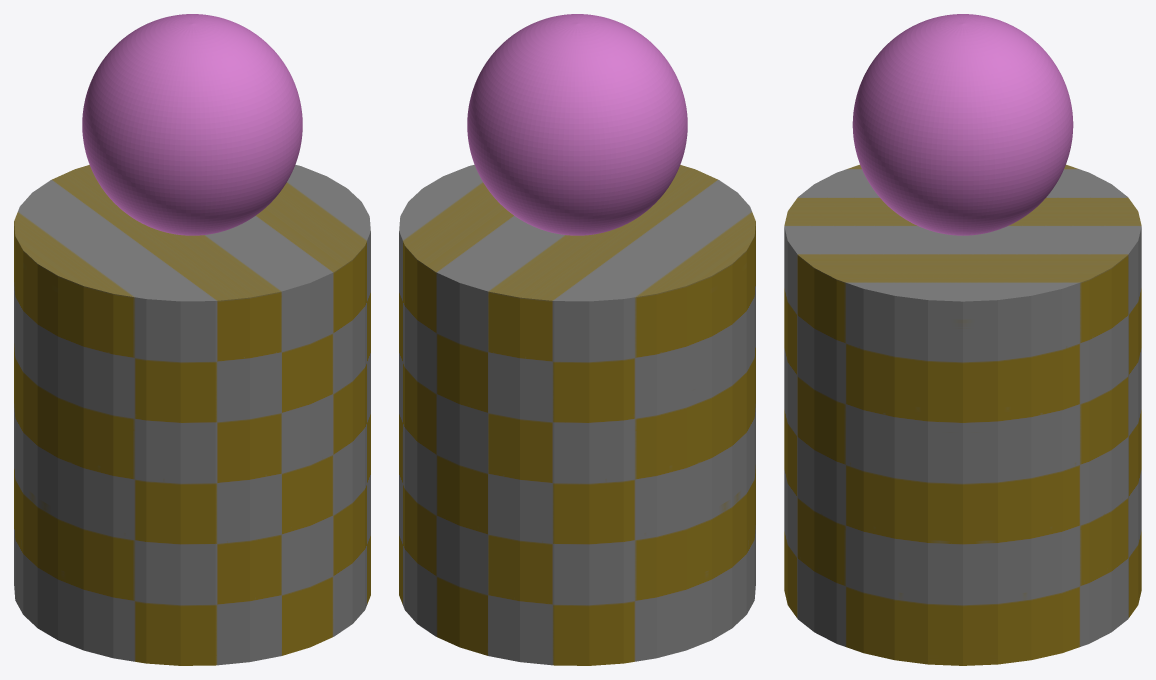
File: BOD5_BMC4_BCC0_BPT4_FRC0_HEA0_HMC10_HCC0_HPT0_ELT0_ERT0_ELL0_ERL0_AP0_AAL0_AAR0_BEK0.fbx
3 views of the same model, side by side, from view 1: azimuth 30°, elevation 25°; view 2: azimuth 150°, elevation 25°; view 3: azimuth 270°, elevation 25° (orthographic).
Parts seen in each view (by area): view 1: Body, Head; view 2: Body, Head; view 3: Body, Head.
Boxes of the visible parts, <box> form: Body: <box>14,164,370,665</box>; Head: <box>82,14,302,235</box>; Body: <box>399,164,755,665</box>; Head: <box>467,14,687,235</box>; Body: <box>784,164,1141,665</box>; Head: <box>852,14,1073,235</box>.
Bounding box in the file's own units: 80 × 140 × 80.
Materials: 2 (2 with a texture image).
